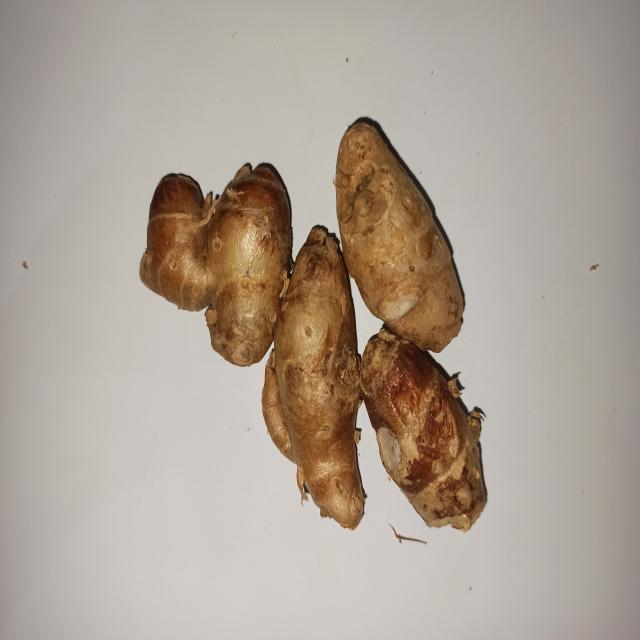ginger: (332, 124, 469, 348), (157, 121, 290, 339), (281, 228, 376, 532), (366, 320, 488, 524)
